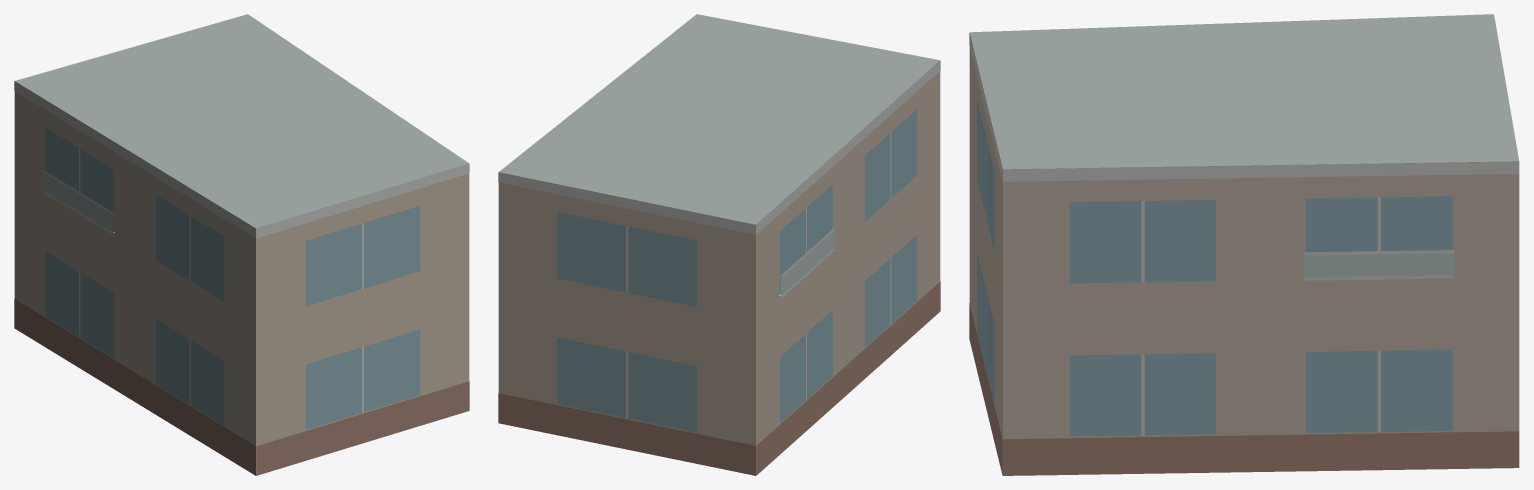
File: survey-upis-32963920.glb
3 renders of one model, left to right at view 1: azimuth 30°, elevation 25°; view 2: azimuth 150°, elevation 25°; view 3: azimuth 270°, elevation 25°, orthographic. The views are drawn at different scales.
Parts seen in each view (by area): view 1: survey-upis-32963920.tmp; view 2: survey-upis-32963920.tmp; view 3: survey-upis-32963920.tmp.
Boxes of the visible parts, left/top/right/bottom form: survey-upis-32963920.tmp: left=14, top=14, right=469, bottom=475; survey-upis-32963920.tmp: left=498, top=14, right=940, bottom=475; survey-upis-32963920.tmp: left=969, top=14, right=1519, bottom=475.
Size of the model in its own units: 5.87 by 5.4 by 8.79.
